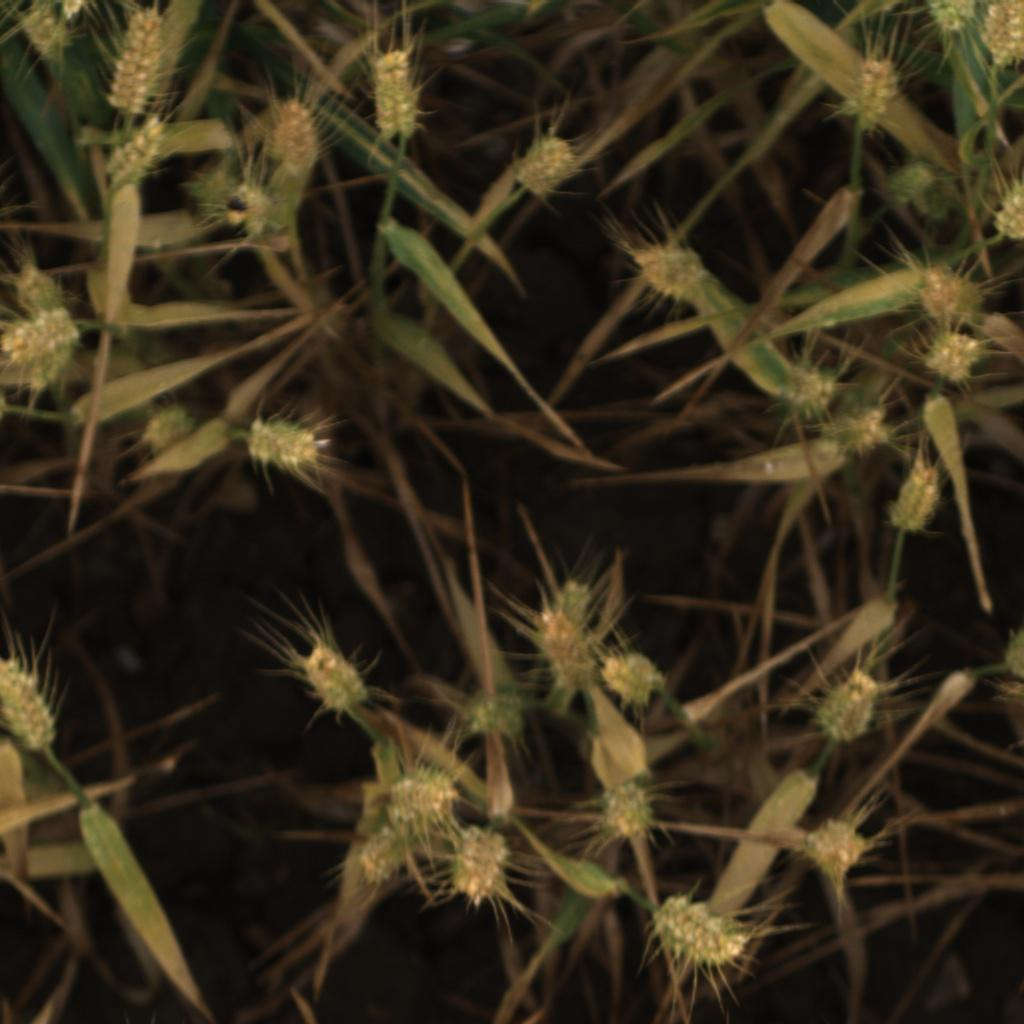0-0: (102, 3, 173, 129), (640, 896, 749, 972), (290, 637, 375, 718), (0, 647, 63, 753), (621, 231, 708, 306), (809, 667, 887, 747), (446, 818, 513, 909), (93, 113, 166, 196), (236, 409, 328, 474), (366, 47, 428, 143), (530, 609, 598, 696), (379, 764, 473, 826), (913, 318, 993, 390), (773, 348, 845, 424), (907, 259, 987, 326), (845, 48, 906, 135), (514, 129, 585, 202), (265, 94, 328, 176), (887, 459, 947, 542), (801, 815, 874, 883), (598, 775, 666, 846), (1, 309, 84, 367), (453, 682, 533, 742), (353, 818, 416, 893), (599, 649, 673, 712), (829, 399, 903, 460), (879, 146, 944, 212), (182, 153, 243, 222), (542, 570, 598, 642), (214, 182, 277, 245), (135, 396, 198, 457), (18, 1, 74, 63), (14, 264, 71, 323), (989, 154, 1024, 250), (976, 0, 1023, 69), (21, 344, 78, 395), (922, 0, 979, 36), (1000, 625, 1024, 680), (58, 0, 86, 24)
